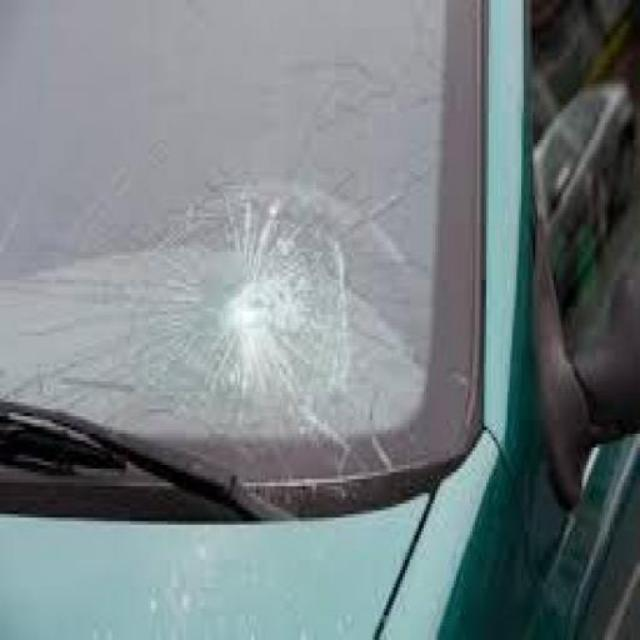glass shatter: (142, 196, 349, 402)
